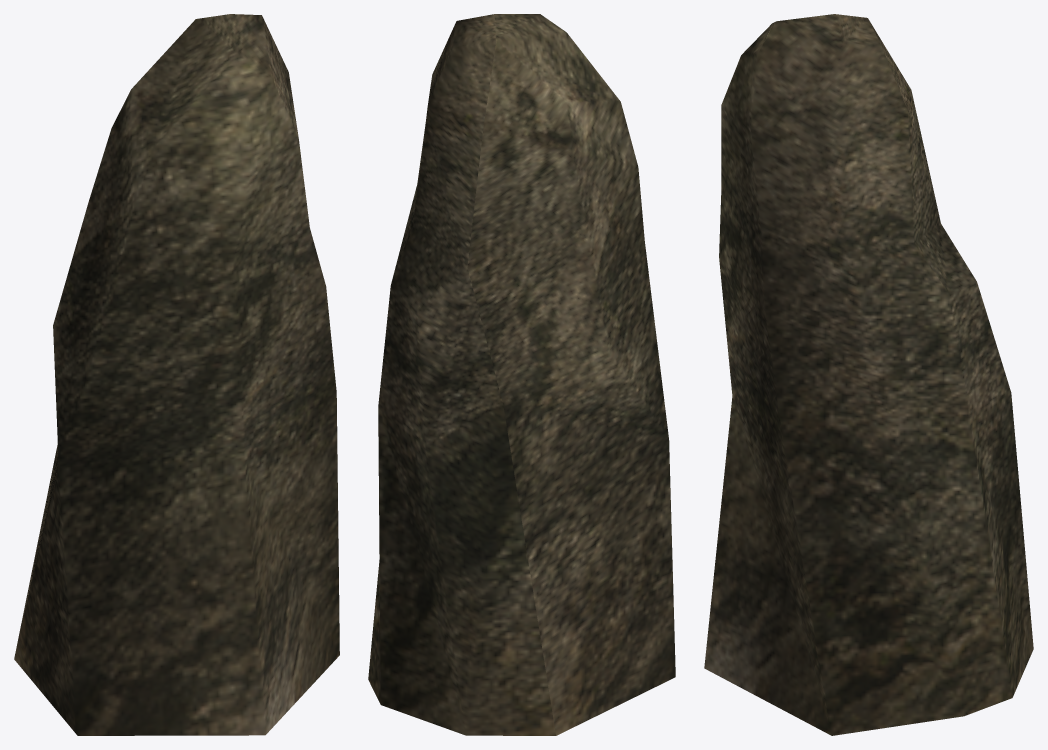
File: LCRG_Rock06.fbx
3 views of the same model, side by side, from view 1: azimuth 30°, elevation 25°; view 2: azimuth 150°, elevation 25°; view 3: azimuth 270°, elevation 25° (orthographic). The views are drawn at different scales.
Visible parts, largest first — view 1: LCRG_Rock06; view 2: LCRG_Rock06; view 3: LCRG_Rock06.
Part boxes in pixels (x1,y1,x2,y2): LCRG_Rock06: [14, 14, 339, 735]; LCRG_Rock06: [368, 14, 675, 735]; LCRG_Rock06: [704, 14, 1033, 735].
Bounding box in the file's own units: 2.35 × 5.25 × 2.34.
